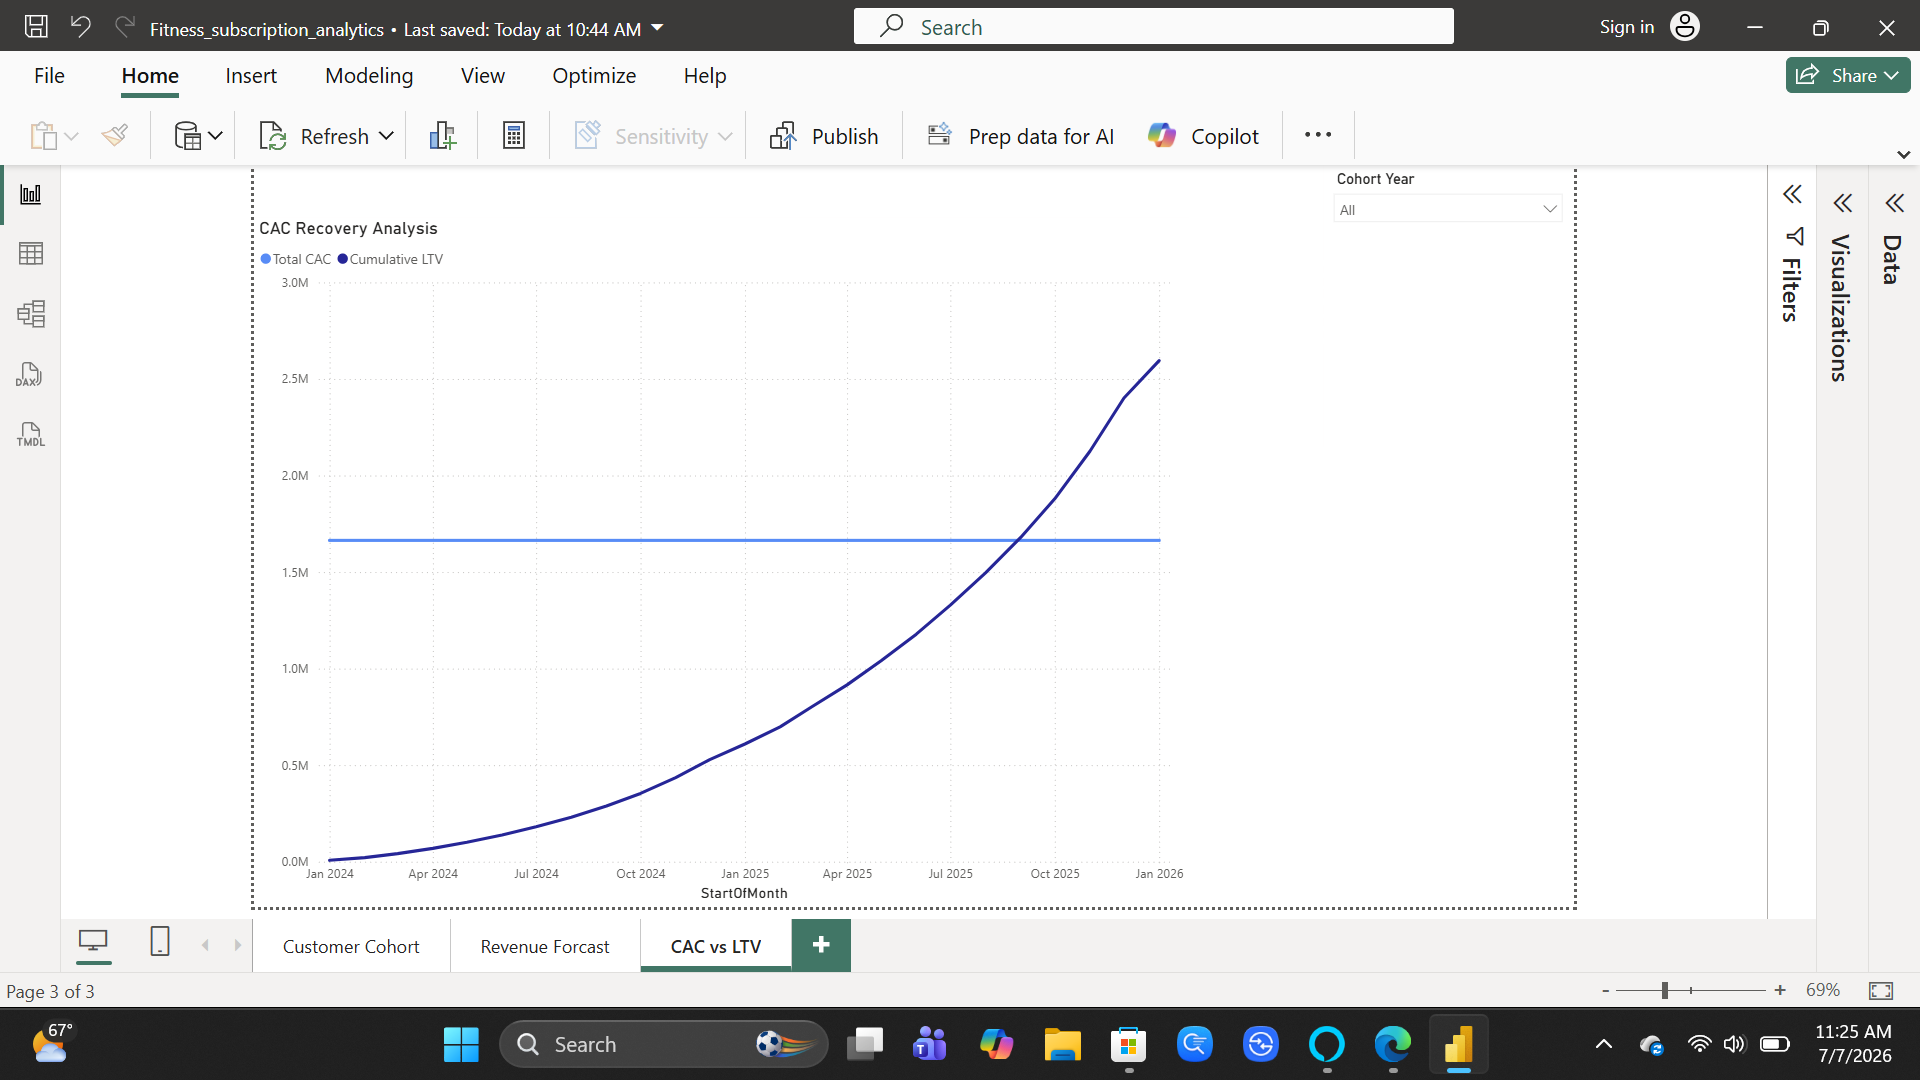

Layout of this report page (visuals, bound fields, positions):
{"tool":"powerbi","page":{"name":"CAC vs LTV","canvas":[1280,720],"ordinal":2},"visuals":[{"type":"lineChart","title":"CAC Recovery Analysis","fields":{"Category":["dim_date.StartOfMonth"],"Y":["customers.Total CAC","transactions.Cumulative LTV"]},"box":[0,51.5,907,667.8],"z":0},{"type":"slicer","fields":{"Values":["customers.Cohort Year"]},"box":[1037.2,0,242.3,274.1],"z":1}]}

Visuals, with their boxes on the page's 1280x720 design canvas (x1, y1, x2, y2). These are canvas units, not pixel positions in the 1920x1080 screenshot, which may show the page scaled, cropped or inside an application window:
"CAC Recovery Analysis" lineChart: x1=0, y1=52, x2=907, y2=719
slicer - customers.Cohort Year: x1=1037, y1=0, x2=1280, y2=274
